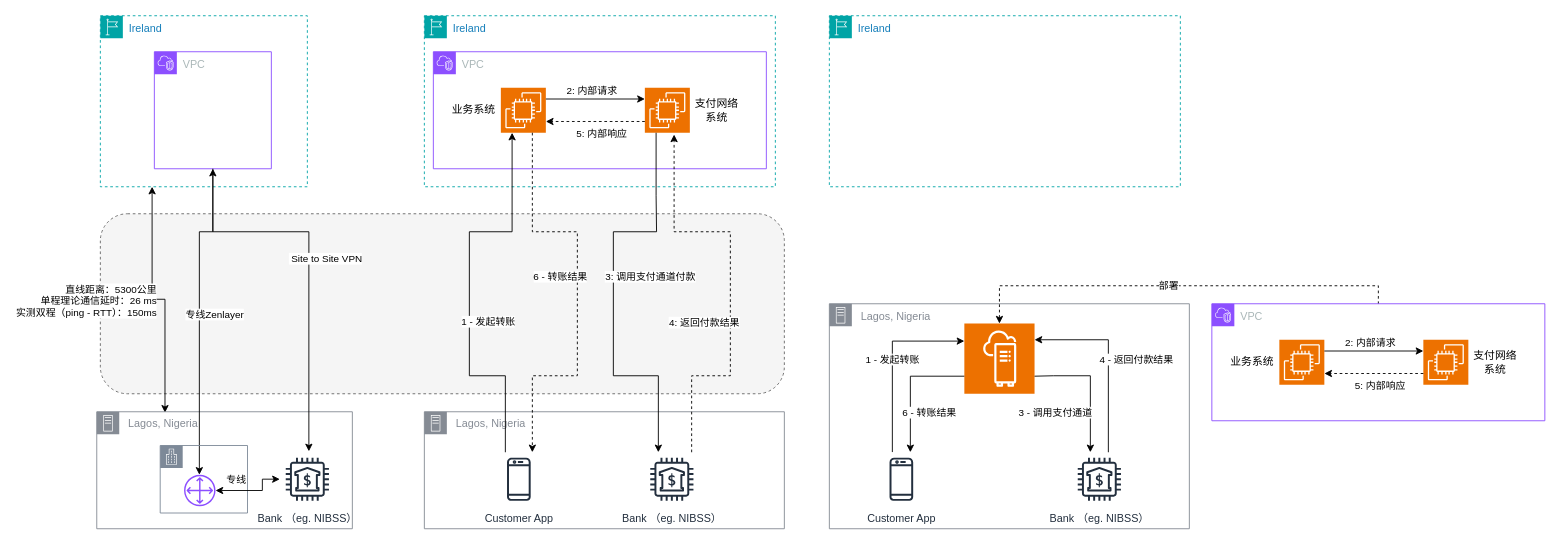
Image size: 1561x545. Some labels were removed from this diagram. The shapes that lost their labels are listed below. From the top down, each one's box as (x1, y1, x2, y2) in pixels, then its label:
(99, 213, 784, 394): 洲际网络
(159, 445, 248, 513): MainOne
